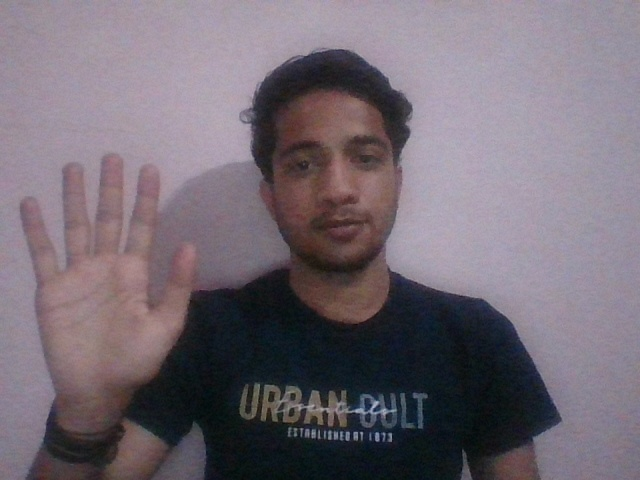Hello: (16, 152, 199, 391)
